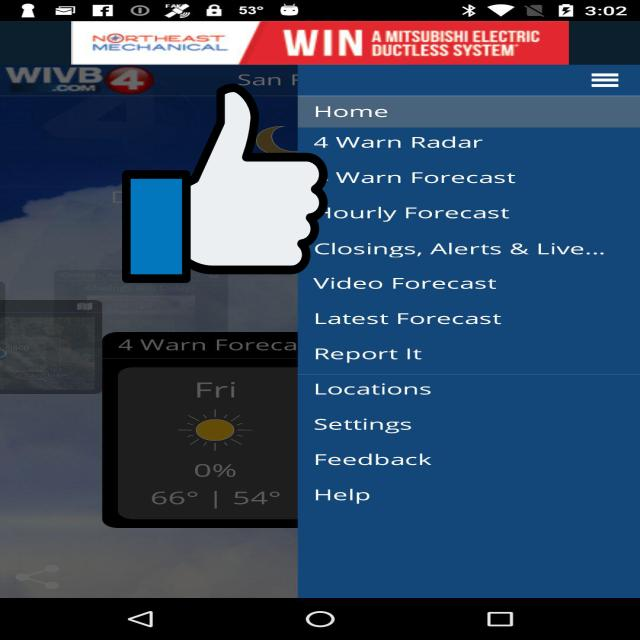privacy zuckering: (122, 79, 328, 287)
